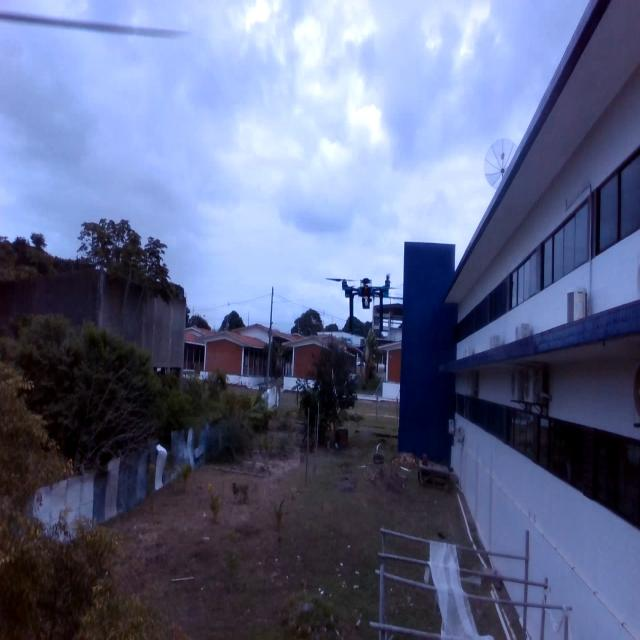-uav-: (318, 255, 412, 344)
